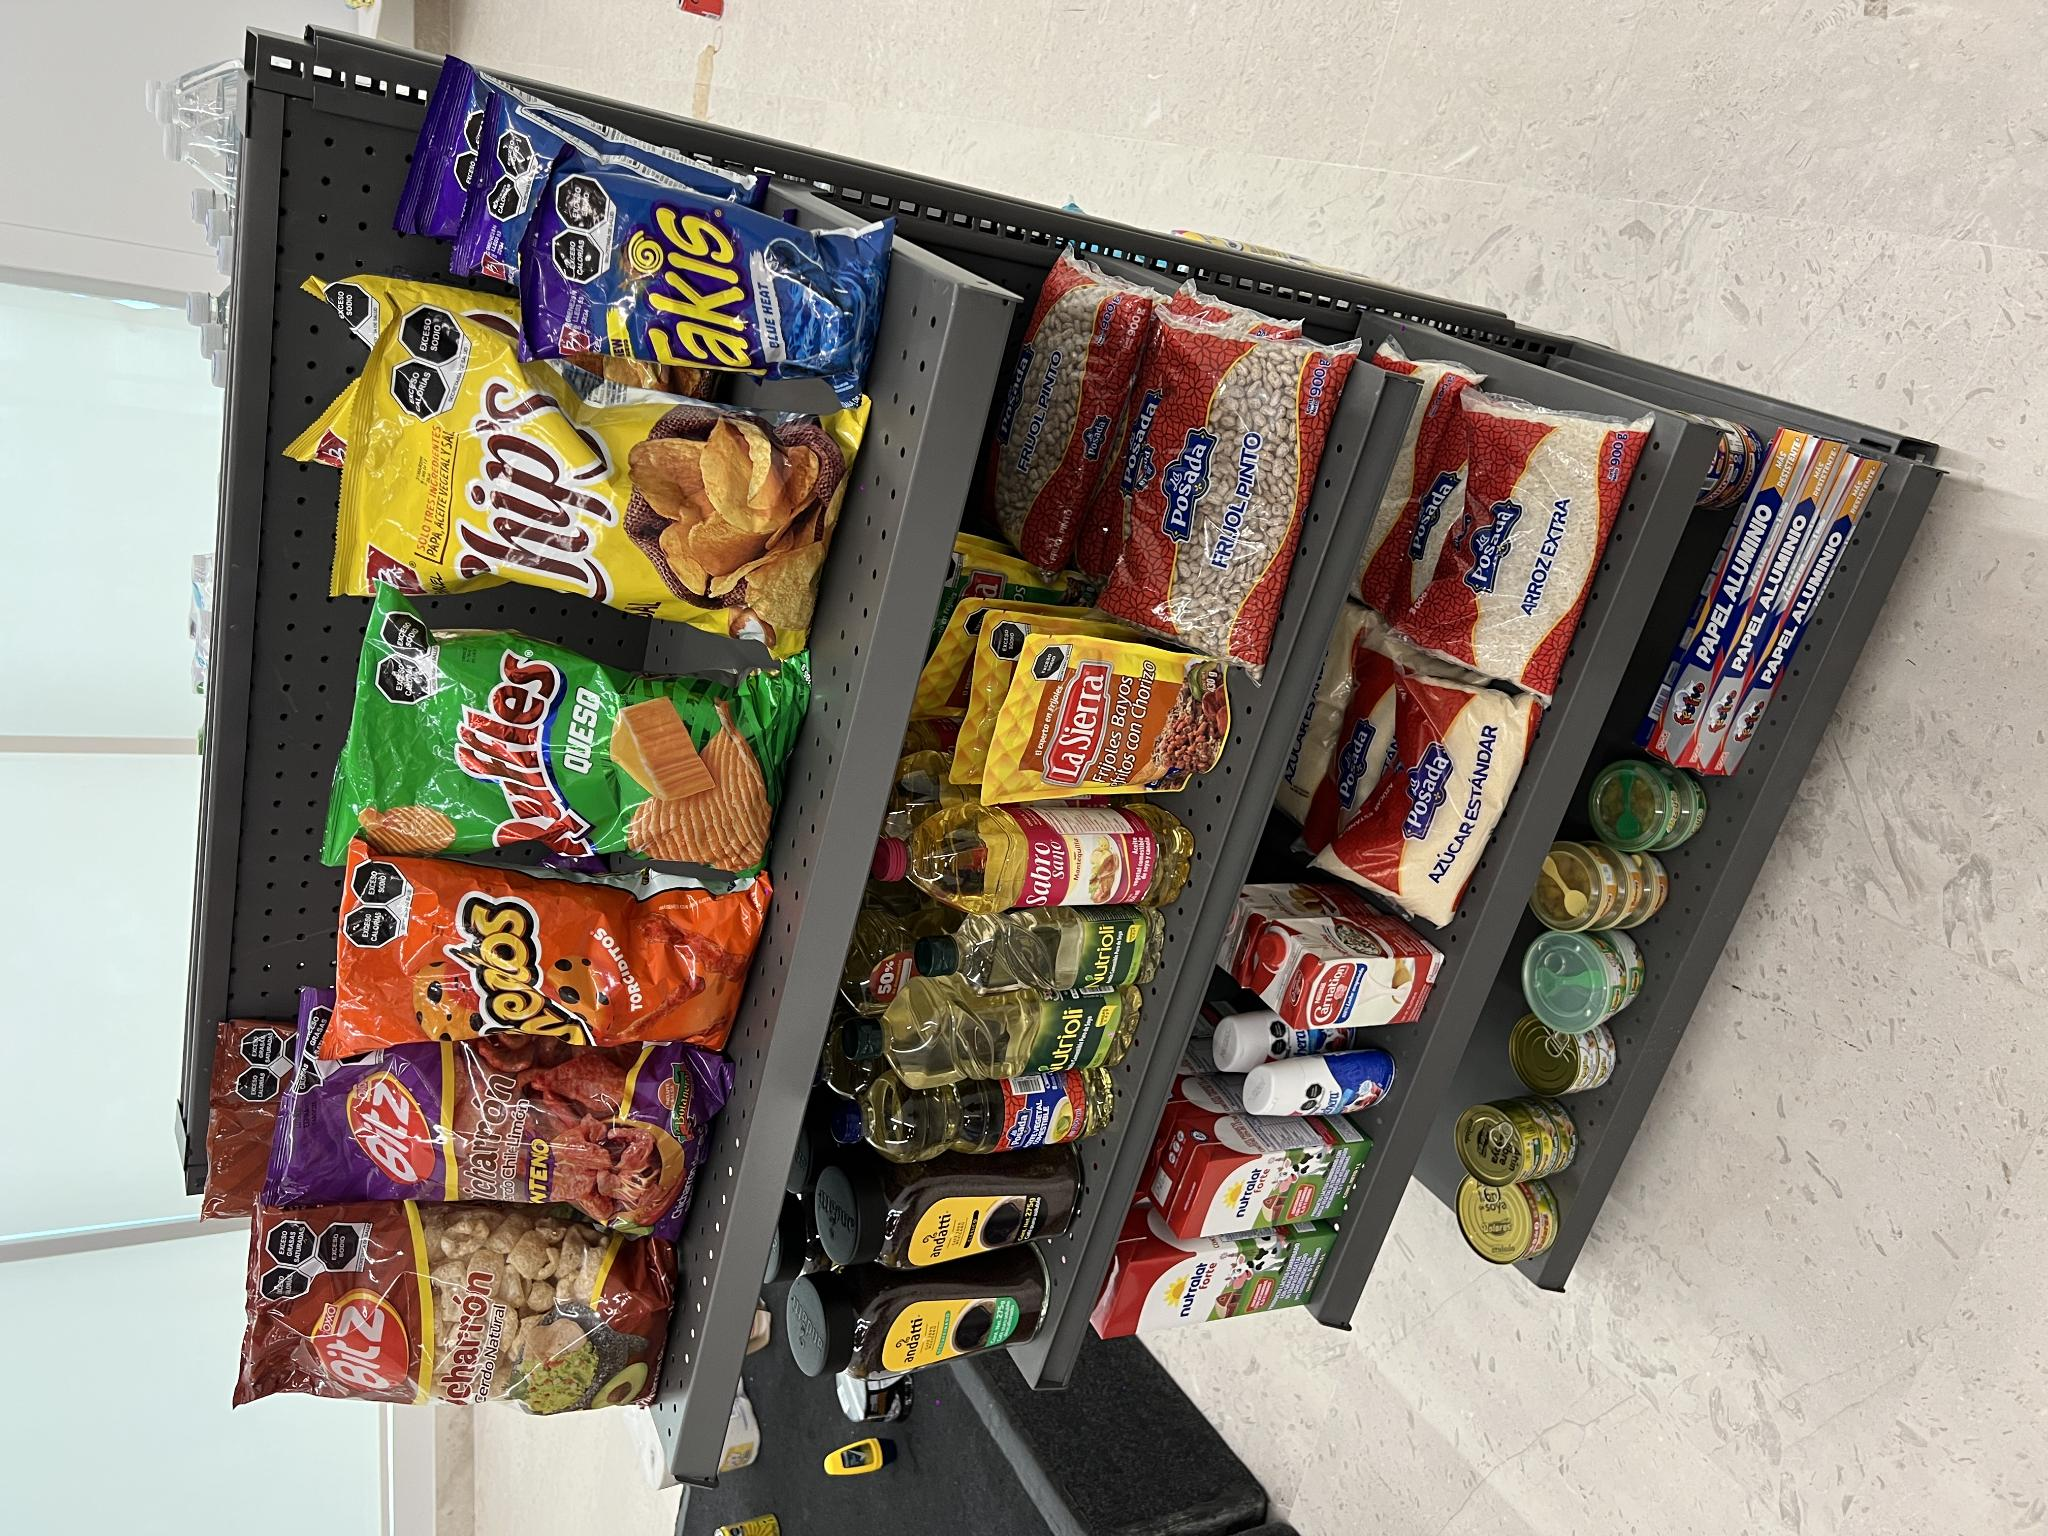aceite_nutrioli_400ml: (548, 916, 619, 1163)
aceite_nutrioli_850ml: (458, 844, 552, 1147)
aceite_posada: (369, 828, 471, 1105)
aceite_saborsano: (624, 868, 714, 1202)
andatti: (255, 831, 395, 1078), (145, 799, 289, 1039)
arroz_laposada: (851, 1407, 1132, 1536)
atun_dolores_masdos: (264, 1468, 355, 1536)
atun_dolores_normal: (361, 1468, 437, 1536)
atun_mazatun_verde: (442, 1513, 511, 1536)
azucar_laposada: (610, 1312, 866, 1536)
carnation: (508, 1294, 582, 1446)
cheetos: (479, 336, 690, 776)
chicharron_bitz_intenso: (293, 266, 489, 723)
chicharron_bitz_natural: (127, 232, 339, 673)
chips_sal: (882, 349, 1234, 866)
frijol_laposada: (860, 1096, 1216, 1360)
frijol_lasierra: (735, 986, 895, 1225)
lalechera: (423, 1239, 482, 1394)
leche_nutralatforte: (197, 1099, 313, 1339), (300, 1176, 395, 1371)
ruffles: (668, 336, 940, 810)
takis: (1143, 524, 1385, 895)
